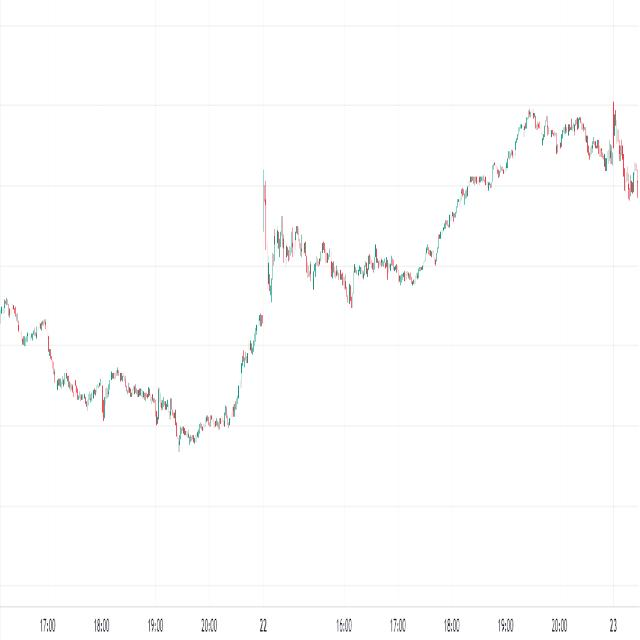Rounding-Top: (504, 90, 611, 175)
